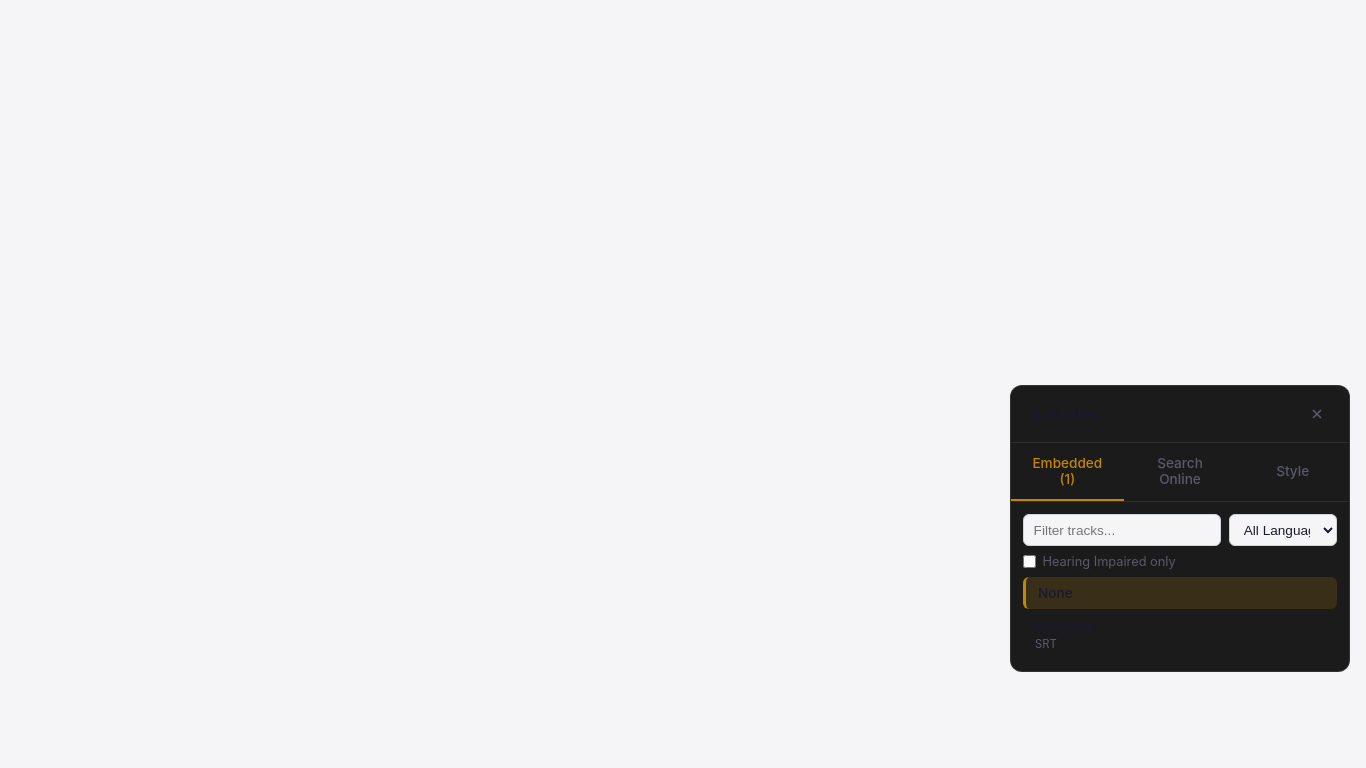
SubtitleSearchPanel › shows a 'no subtitles found' message after a search with zero results
Step 1. Click the button "Search Online" → (1180, 472), box [1124, 443, 1236, 501]
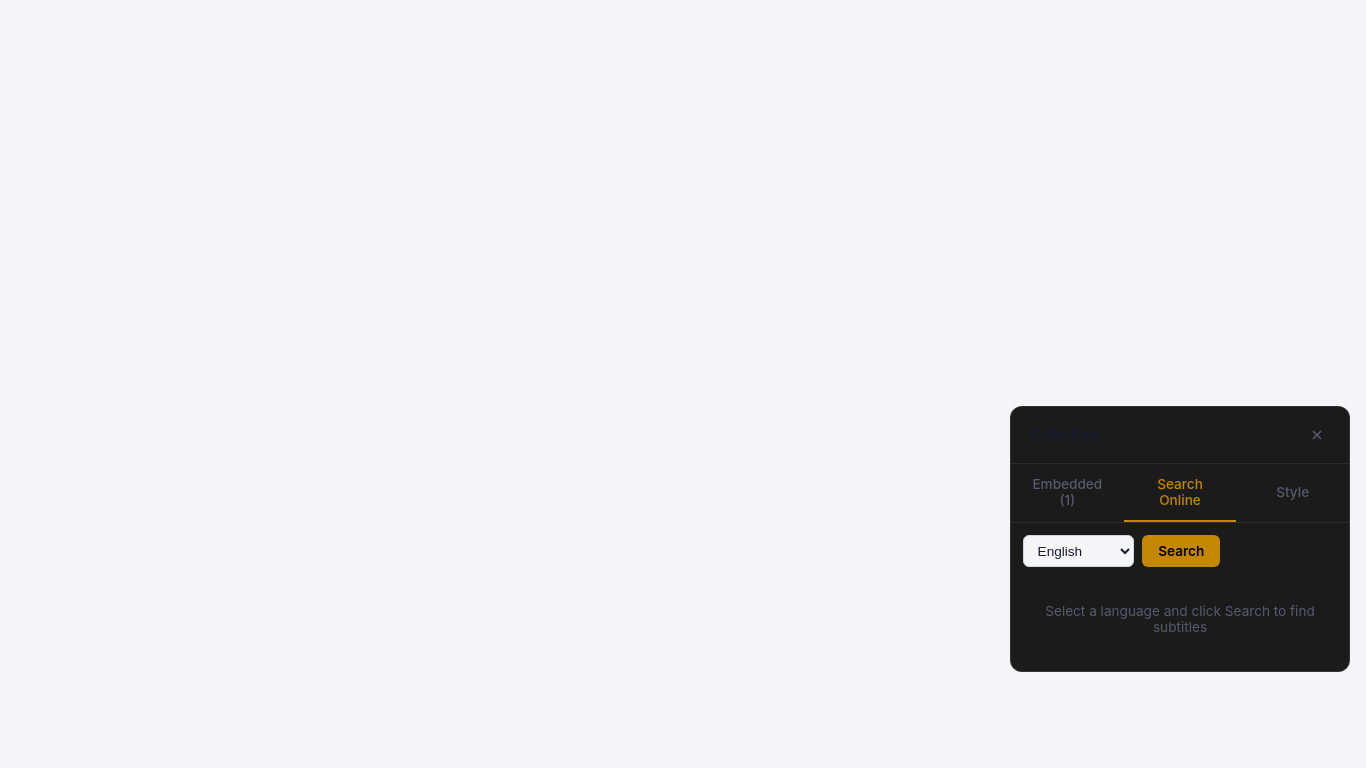
Now the text "Select a language and click Search to find subtitles" is shown, box [1045, 603, 1315, 635]
Step 2. Click the button "Search" → (1181, 551), box [1142, 535, 1220, 567]
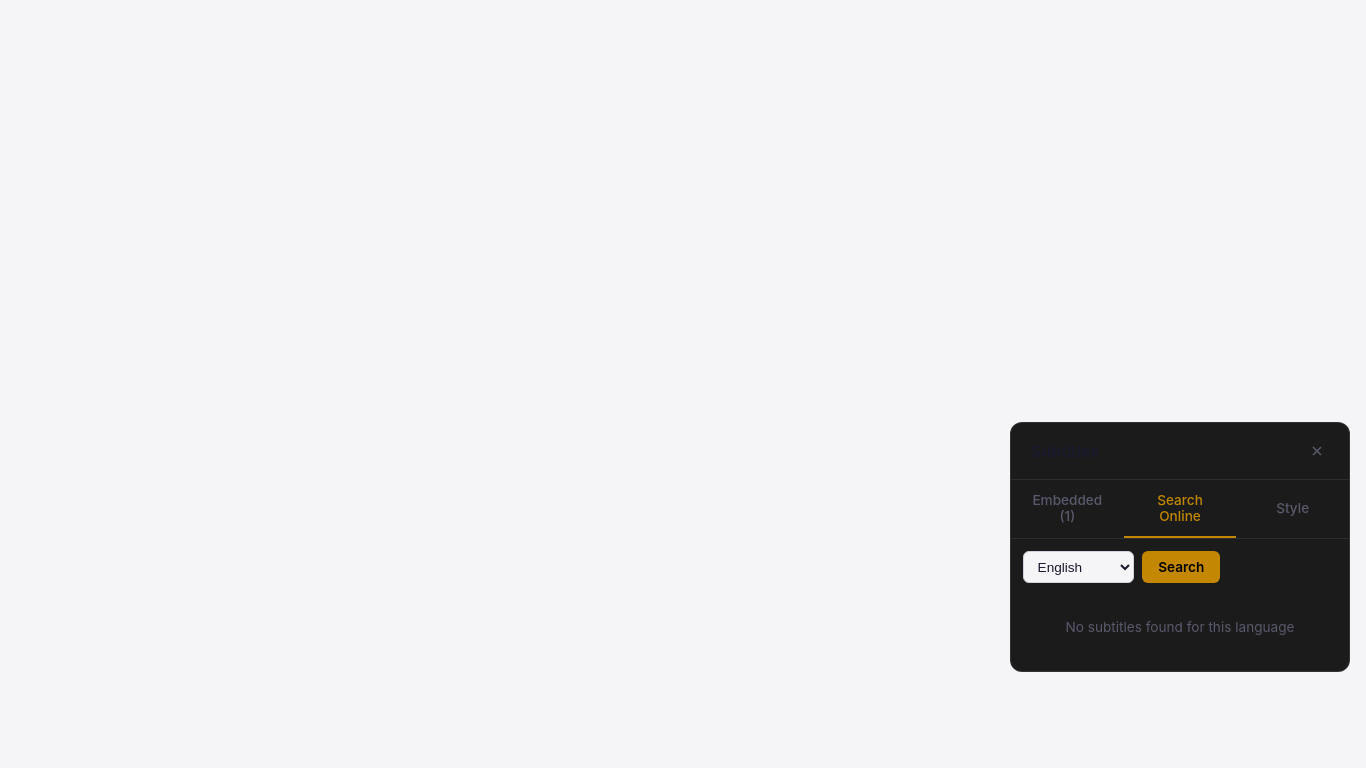
Now the text "No subtitles found for this language" is shown, box [1066, 619, 1294, 635]
